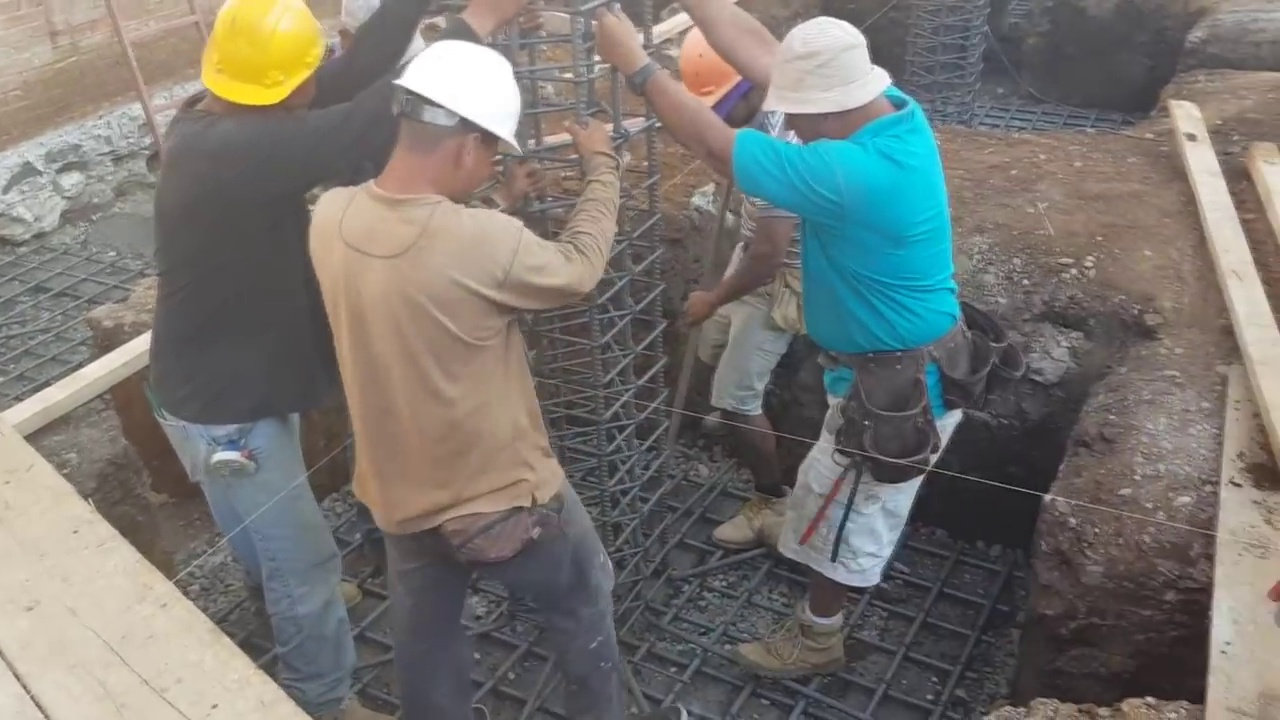helmet: (388, 40, 523, 155), (188, 2, 326, 110), (668, 33, 745, 110)
helmet-off: (760, 16, 905, 147)
helmet-on: (366, 46, 524, 214), (177, 2, 333, 130), (670, 18, 774, 132)
person: (146, 2, 518, 713), (596, 0, 980, 684), (306, 44, 631, 720), (661, 9, 807, 556)
